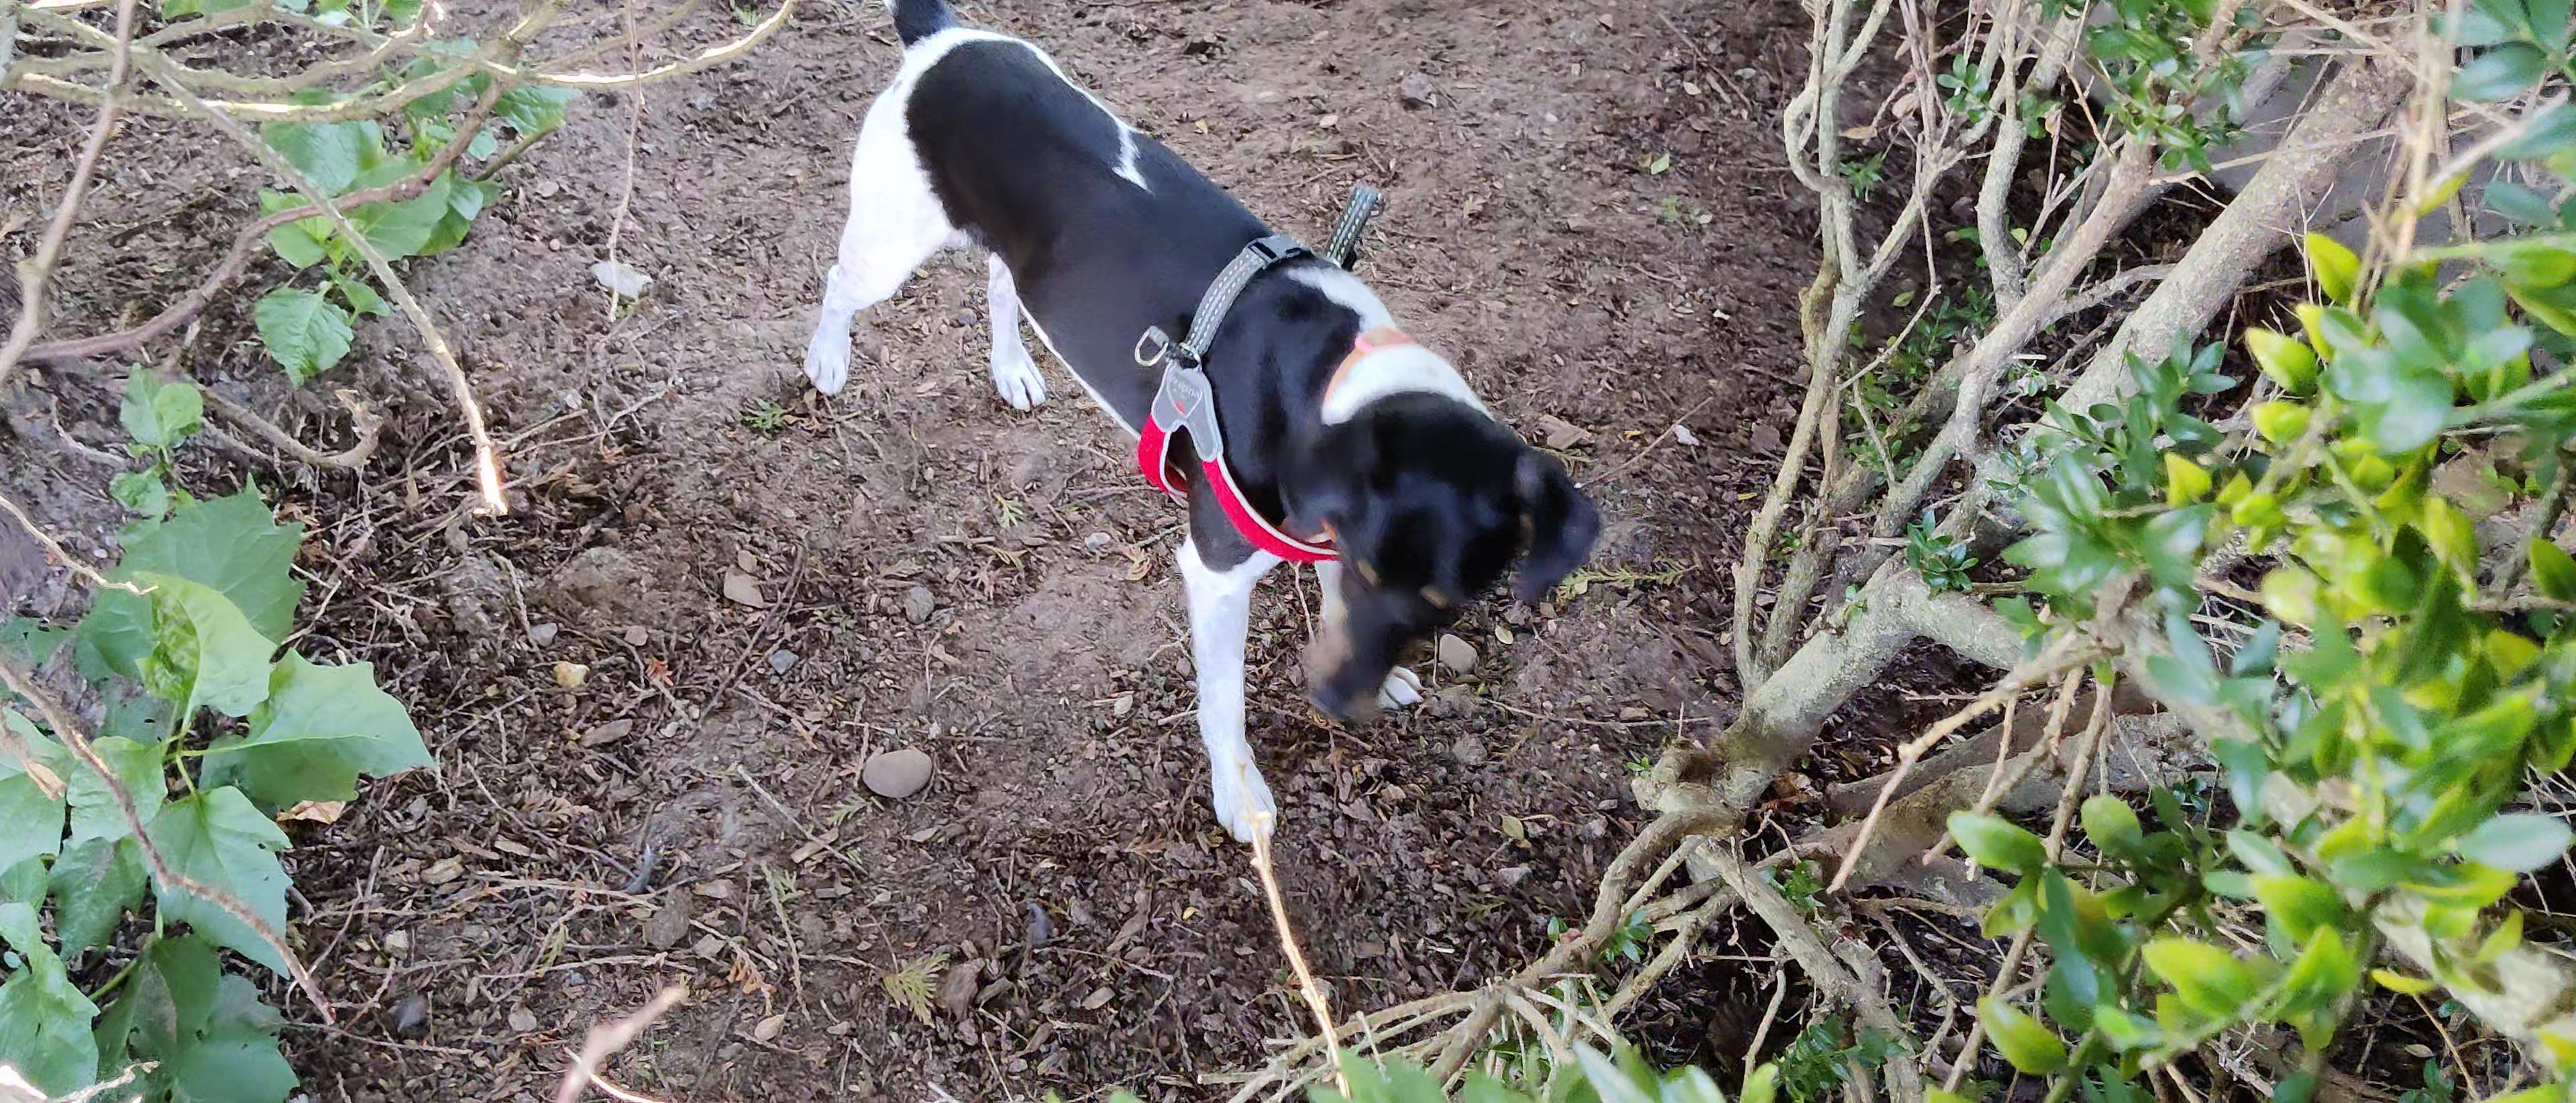Dog: (772, 0, 1613, 899)
